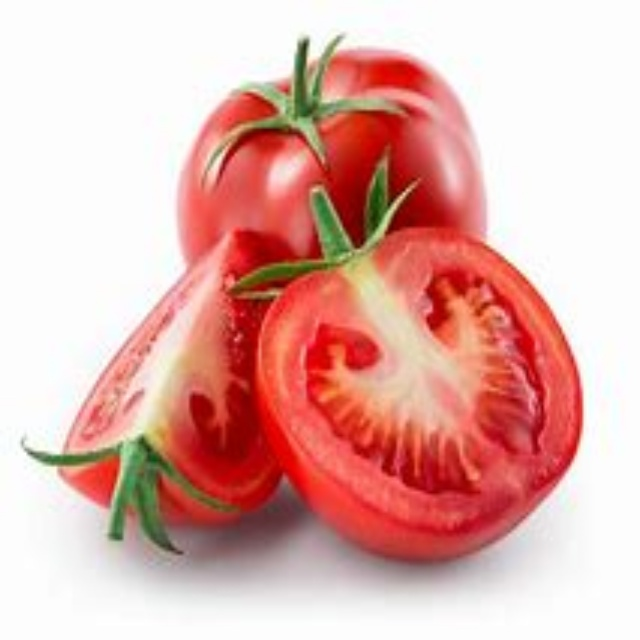tomato: (61, 246, 598, 566), (173, 51, 493, 275)
